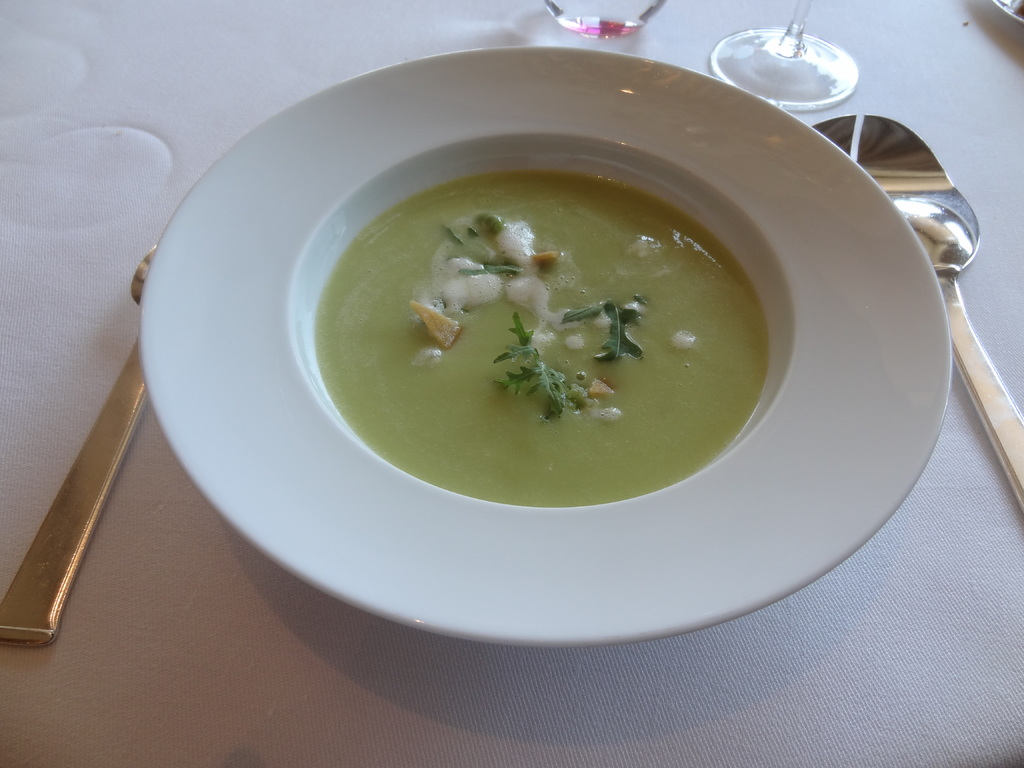plate: (138, 44, 952, 647)
